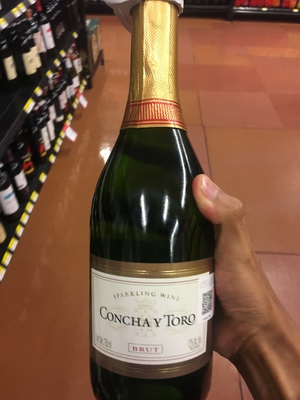brut: (85, 6, 231, 400)
